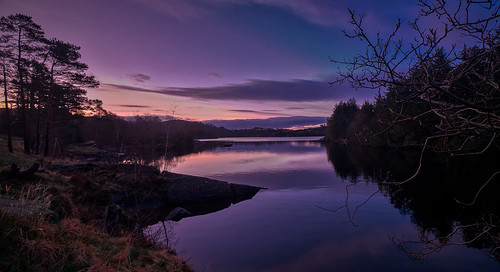river: (180, 129, 475, 272)
sky: (61, 1, 466, 123)
tree: (364, 8, 500, 141), (1, 1, 84, 157)
vegetation: (2, 101, 155, 272), (331, 61, 498, 151)
